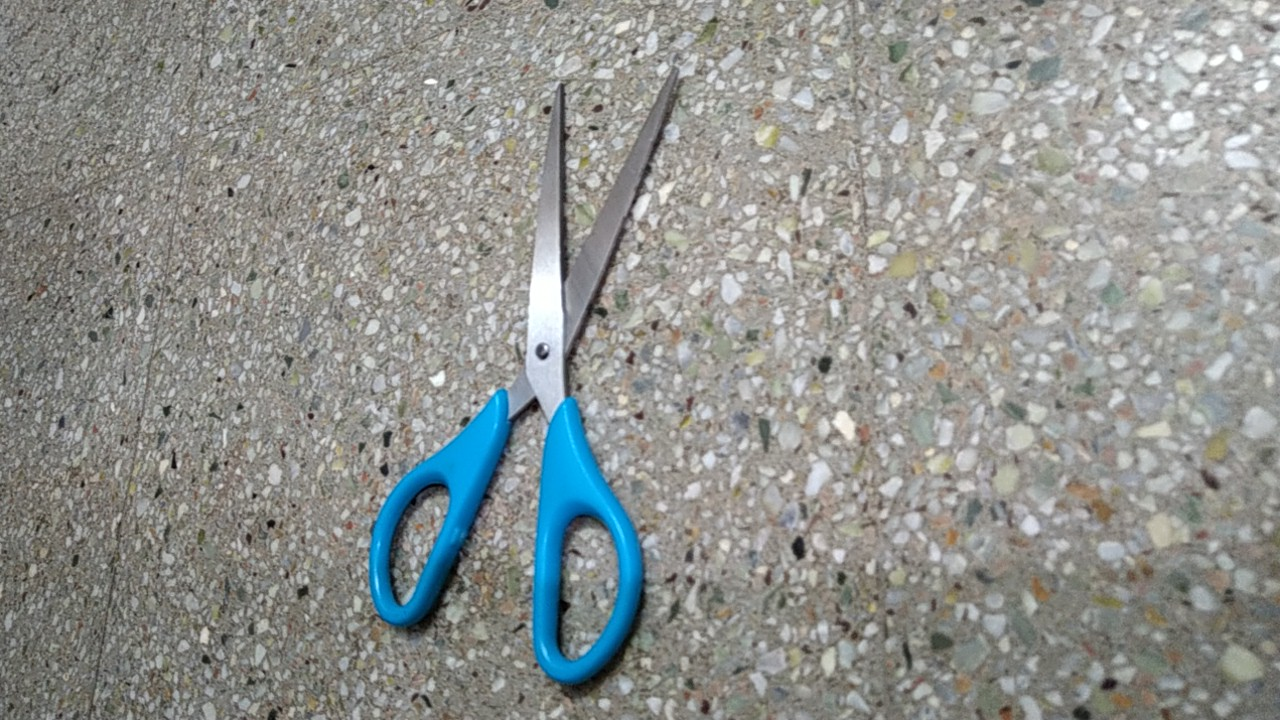scissor: (353, 60, 709, 704)
